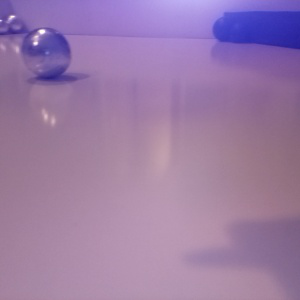alive_ball: (20, 27, 71, 78), (5, 14, 22, 33), (1, 18, 8, 34)
dead_ball: (212, 16, 234, 41), (228, 22, 247, 43)
